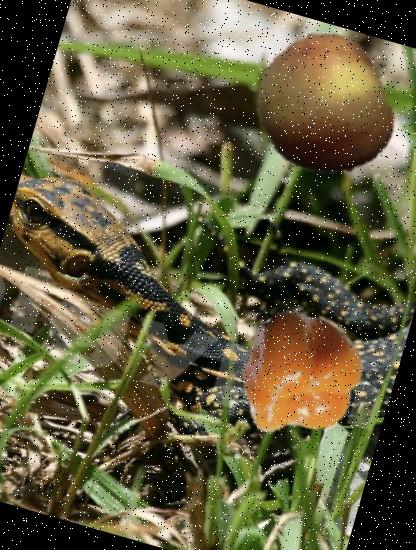Apple: (235, 16, 414, 194)
Pepper: (212, 285, 382, 454)
